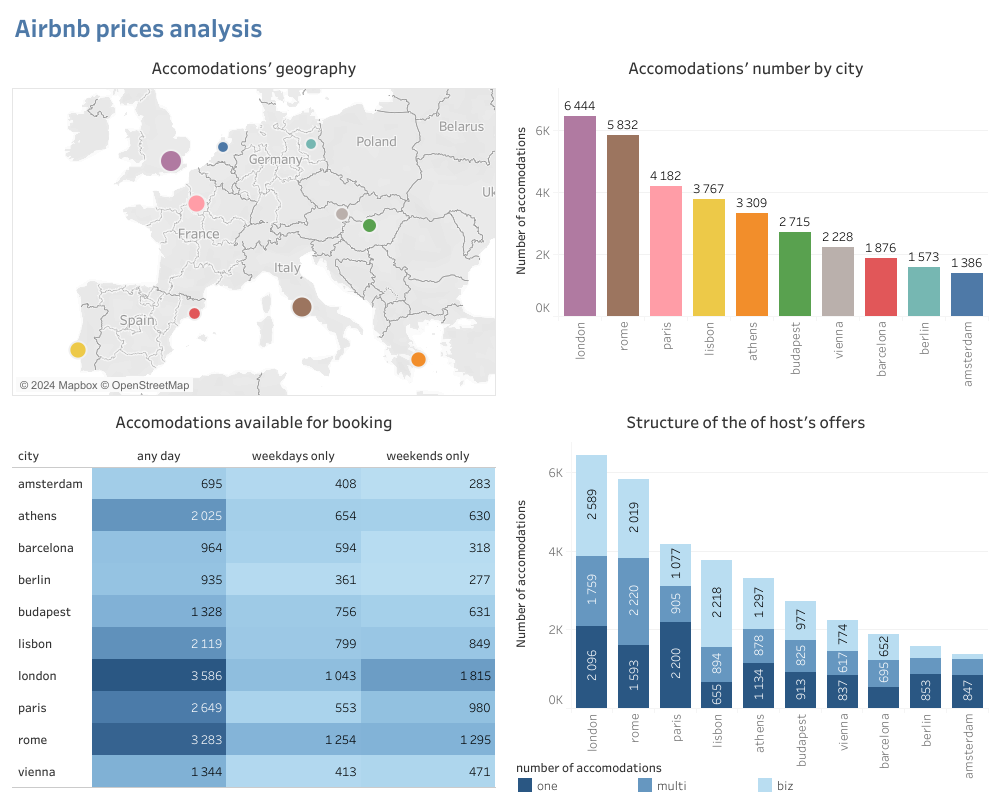

The page's visual inventory and layout, read from the dashboard file:
{"tool":"tableau","page":{"name":"Dashboard_1","canvas":[1000,800],"ordinal":1},"visuals":[{"type":"text","box":[8,8,984,38]},{"type":"worksheet","title":"c_map","mark":"Automatic","rows":["lat"],"cols":["lng"],"box":[8,46,492,354]},{"type":"worksheet","title":"c_count","mark":"Automatic","rows":["city"],"cols":["city"],"box":[500,46,492,354]},{"type":"worksheet","title":"c_booking","mark":"Square","rows":["city"],"cols":["booking_days"],"box":[8,400,492,392]},{"type":"worksheet","title":"c_biz","mark":"Automatic","rows":["biz_type"],"cols":["city"],"box":[500,400,492,392]},{"type":"legend","title":"c_biz","param":"[federated.1g3i3es0u0xrs51gmyu2l13s10mf].[none:biz_type:nk]","box":[515,756,484,39]}]}

Visuals, with their boxes in screenshot pixels (x1, y1, x2, y2), scaled from the page's 1000x800 canvas onto the 999x799 screenshot:
text: (8, 8, 991, 46)
"c_map" worksheet: (8, 46, 500, 400)
"c_count" worksheet: (500, 46, 991, 400)
"c_booking" worksheet (Square marks): (8, 400, 500, 791)
"c_biz" worksheet: (500, 400, 991, 791)
"c_biz" legend: (514, 755, 998, 794)
